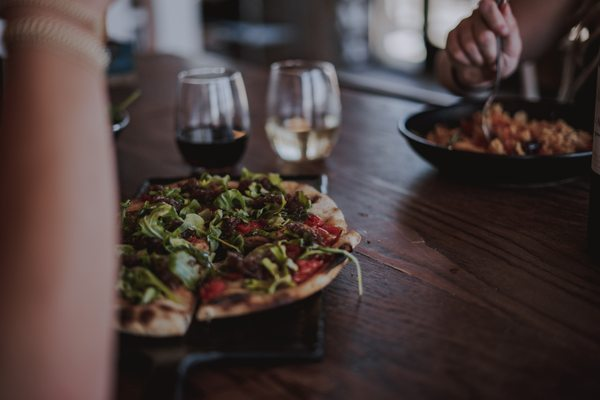sushi: (397, 94, 596, 189)
